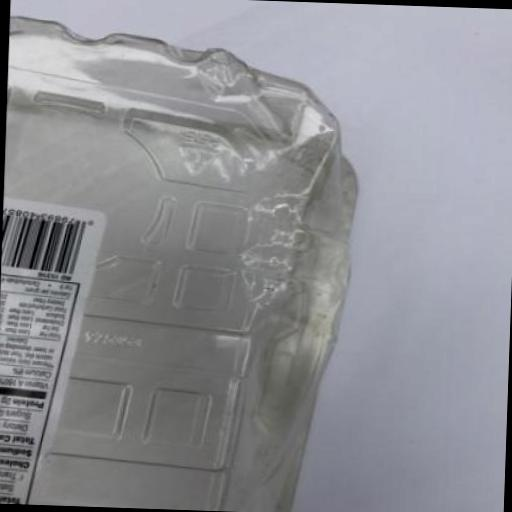plastic: (0, 17, 362, 512)
